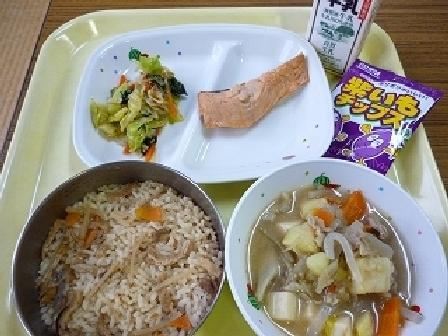Fish: (195, 61, 311, 142)
Milk: (293, 0, 377, 71)
Mixed rice: (17, 161, 219, 335)
Salad: (91, 54, 186, 150)
vegetable soup: (220, 160, 444, 334)
